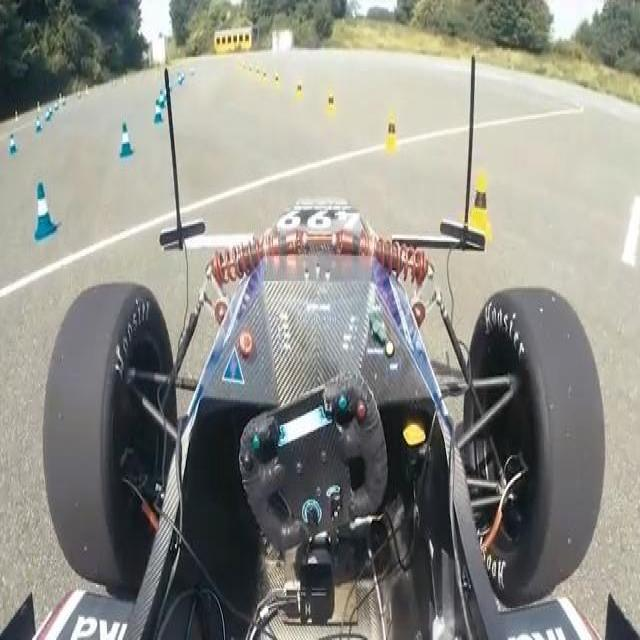blue_cone: (32, 180, 61, 242), (116, 121, 135, 160), (150, 100, 164, 127), (8, 133, 18, 157), (158, 89, 166, 112)
yellow_cone: (468, 173, 491, 242), (384, 110, 399, 155), (325, 89, 337, 115)
